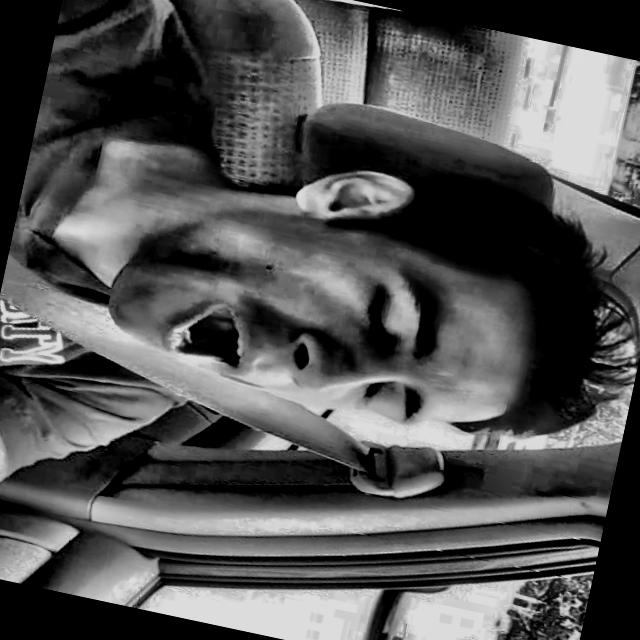closed_eyes: (343, 275, 415, 353), (348, 378, 406, 423)
open_mouth: (146, 284, 266, 389)
